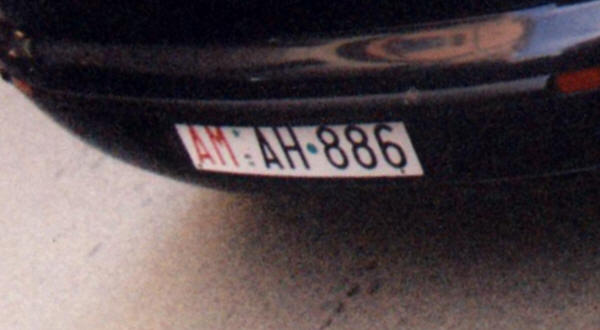license_plate: (170, 121, 424, 179)
